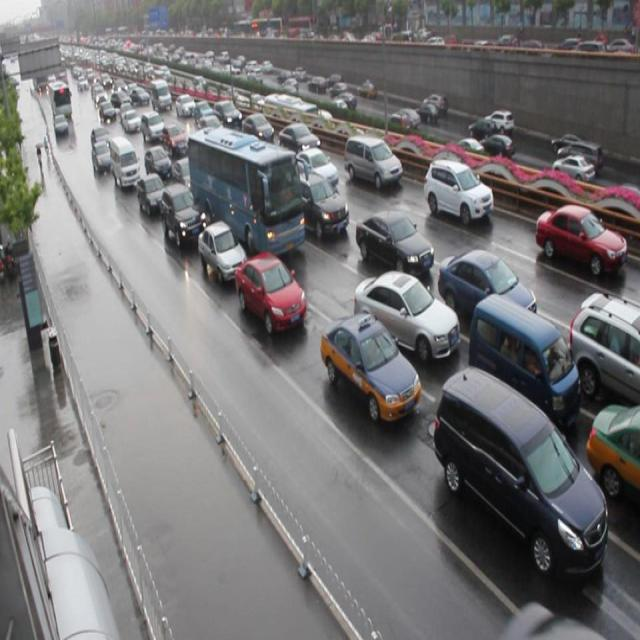car: (319, 312, 420, 418), (353, 269, 459, 359), (567, 291, 640, 404), (437, 248, 537, 326), (534, 202, 625, 273), (233, 251, 306, 331), (584, 402, 640, 506), (355, 208, 433, 274), (422, 158, 493, 224), (296, 172, 348, 237), (198, 219, 248, 278), (163, 181, 204, 242), (291, 147, 338, 187), (278, 121, 319, 158), (137, 171, 166, 213), (242, 111, 274, 143), (171, 157, 197, 193), (146, 144, 172, 180)
truck: (432, 365, 607, 572), (466, 290, 580, 418), (344, 133, 402, 190)
van: (190, 124, 305, 256)
